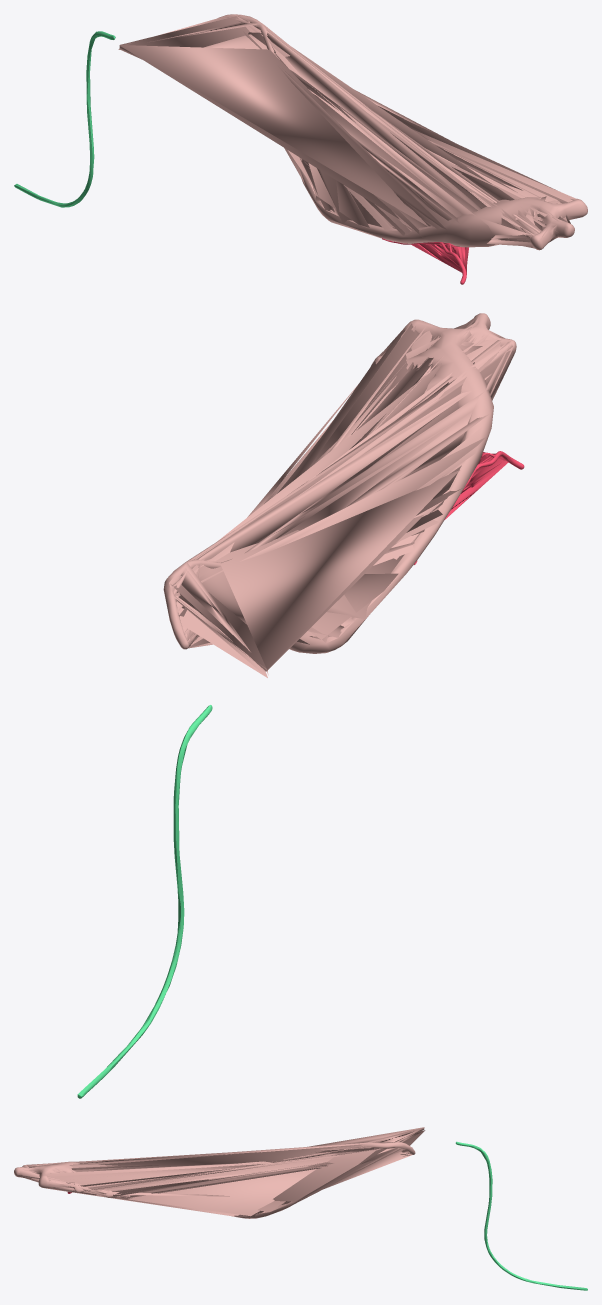
File: organ-urinary-bladder.glb
3 views of the same model, one above another, from view 1: azimuth 30°, elevation 25°; view 2: azimuth 150°, elevation 25°; view 3: azimuth 270°, elevation 25° (orthographic). The views are drawn at different scales.
Parts seen in each view (by area): view 1: Bladder_Dome_Body, Urethra_Canal, Vesical_Vessels; view 2: Bladder_Dome_Body, Urethra_Canal, Vesical_Vessels; view 3: Bladder_Dome_Body, Urethra_Canal.
Boxes of the visible parts, x1=… form: Bladder_Dome_Body: x1=118, y1=14, x2=587, y2=250; Urethra_Canal: x1=14, y1=31, x2=115, y2=207; Vesical_Vessels: x1=382, y1=238, x2=468, y2=284; Bladder_Dome_Body: x1=163, y1=313, x2=516, y2=677; Urethra_Canal: x1=77, y1=705, x2=212, y2=1098; Vesical_Vessels: x1=414, y1=451, x2=524, y2=564; Bladder_Dome_Body: x1=14, y1=1127, x2=425, y2=1218; Urethra_Canal: x1=455, y1=1141, x2=587, y2=1290.
Bounding box in the file's own units: 0.1233 × 0.1684 × 0.5.
